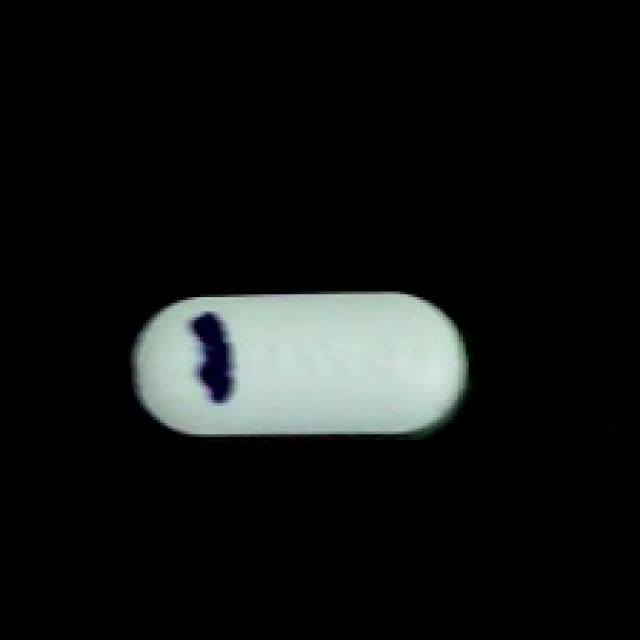defected: (120, 280, 471, 449)
